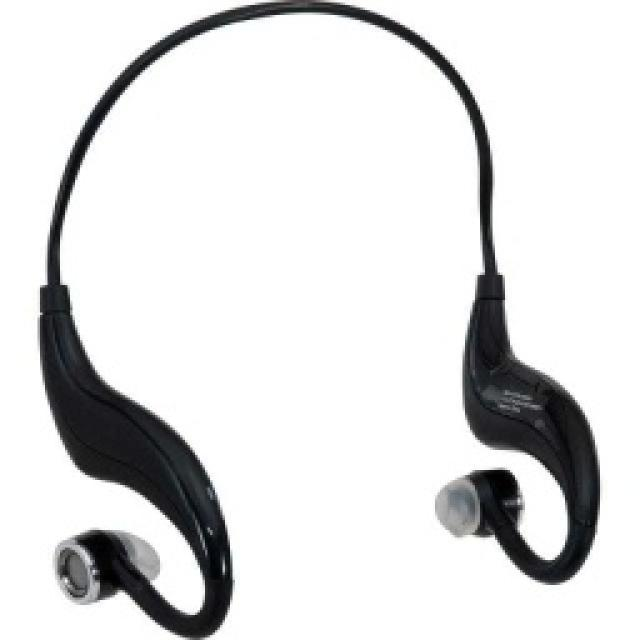headphones: (35, 0, 600, 638)
